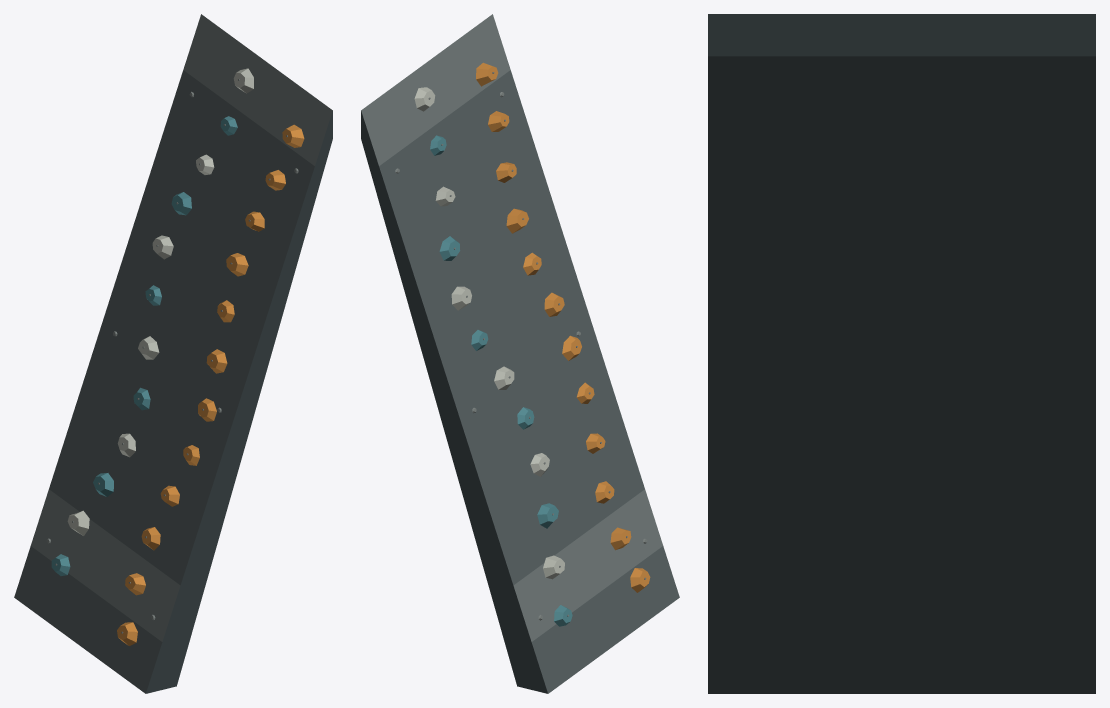
The model's file is w8b-deck-a-scramble.glb.
3 renders of one model, left to right at view 1: azimuth 30°, elevation 25°; view 2: azimuth 150°, elevation 25°; view 3: azimuth 270°, elevation 25°, orthographic. The views are drawn at different scales.
Parts seen in each view (by area): view 1: W8b Deck A scramble slab; view 2: W8b Deck A scramble slab; view 3: W8b Deck A scramble slab.
Part boxes in pixels (<box>): W8b Deck A scramble slab: <box>14,14,332,693</box>; W8b Deck A scramble slab: <box>361,14,679,693</box>; W8b Deck A scramble slab: <box>708,14,1095,693</box>.
Bounding box in the file's own units: 2.17 × 5.97 × 2.65.
